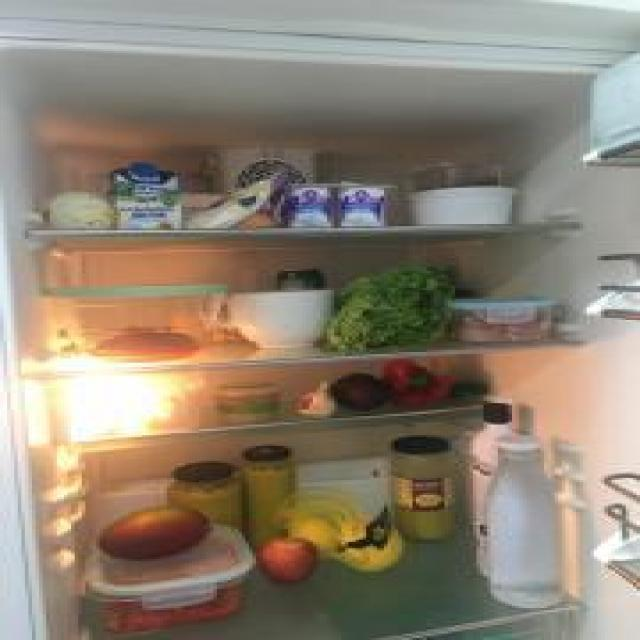apple: (260, 536, 316, 584)
avocado: (330, 372, 388, 410)
bell_pepper: (382, 359, 453, 406)
garlic: (295, 382, 338, 416)
guacamole: (215, 384, 279, 422)
heavy_cream: (114, 164, 182, 233)
mango: (95, 504, 214, 560)
salad: (352, 268, 444, 351)
yogurt: (284, 185, 334, 228), (342, 182, 388, 228)
